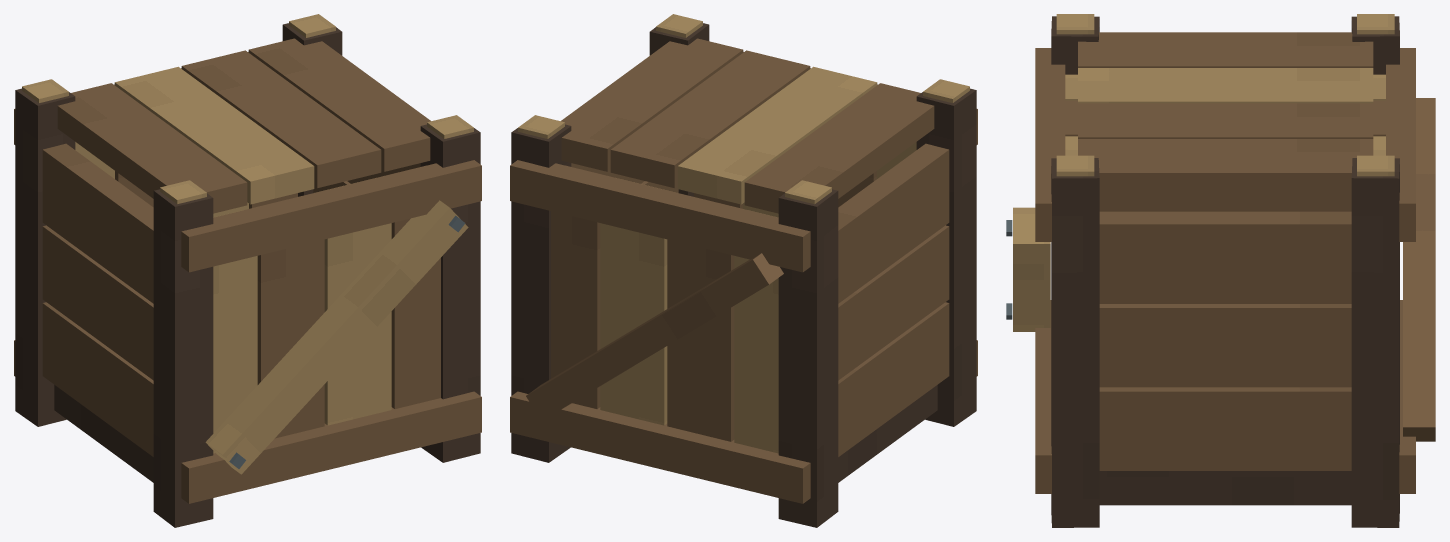
Rendered from crate.glb.
3 views of the same model, side by side, from view 1: azimuth 30°, elevation 25°; view 2: azimuth 150°, elevation 25°; view 3: azimuth 270°, elevation 25° (orthographic). The views are drawn at different scales.
Parts seen in each view (by area): view 1: corner-post, front-diagonal-brace, horizontal-end-rail.001, horizontal-end-rail, lid-plank, corner-post.001, side-plank.002, lid-plank.001, lid-plank.002, lid-plank.003, corner-post.002, side-plank (+11 smaller); view 2: corner-post.001, horizontal-end-rail.003, horizontal-end-rail.002, lid-plank, corner-post, side-plank.002, lid-plank.001, lid-plank.002, front-back-plank.006, front-back-plank.005, corner-post.003, lid-plank.003 (+11 smaller); view 3: side-plank.005, side-plank.003, side-plank.004, corner-post.003, corner-post.002, lid-plank.003, lid-plank.002, lid-plank.001, lid-plank, rear-diagonal-brace, crate-base, horizontal-end-rail.001 (+11 smaller).
Part boxes in pixels (x1,y1,x2,y2): corner-post: [153, 189, 213, 527]; front-diagonal-brace: [205, 200, 468, 474]; horizontal-end-rail.001: [181, 160, 481, 272]; horizontal-end-rail: [181, 391, 481, 503]; lid-plank: [57, 83, 247, 213]; corner-post.001: [15, 88, 75, 426]; side-plank.002: [42, 143, 153, 303]; lid-plank.001: [114, 66, 314, 204]; lid-plank.002: [181, 50, 381, 187]; lid-plank.003: [248, 38, 430, 171]; corner-post.002: [420, 124, 480, 462]; side-plank: [42, 302, 153, 456]; corner-post.001: [778, 189, 838, 527]; horizontal-end-rail.003: [510, 160, 810, 272]; horizontal-end-rail.002: [510, 391, 810, 503]; lid-plank: [744, 83, 934, 213]; corner-post: [916, 88, 976, 426]; side-plank.002: [838, 143, 949, 303]; lid-plank.001: [677, 66, 877, 204]; lid-plank.002: [610, 50, 810, 187]; front-back-plank.006: [600, 182, 667, 425]; front-back-plank.005: [667, 206, 734, 441]; corner-post.003: [511, 124, 571, 462]; lid-plank.003: [561, 38, 743, 171]; side-plank.005: [1099, 211, 1351, 303]; side-plank.003: [1099, 387, 1351, 470]; side-plank.004: [1099, 304, 1351, 387]; corner-post.003: [1351, 158, 1399, 527]; corner-post.002: [1051, 158, 1099, 527]; lid-plank.003: [1078, 139, 1373, 197]; lid-plank.002: [1078, 103, 1373, 138]; lid-plank.001: [1078, 68, 1373, 103]; lid-plank: [1078, 32, 1373, 67]; rear-diagonal-brace: [1403, 98, 1435, 441]; crate-base: [1099, 471, 1351, 505]; horizontal-end-rail.001: [1035, 48, 1065, 241].
Size of the model in its own units: 0.7667 by 0.78 by 0.8575.
1 material, 1 textured.
